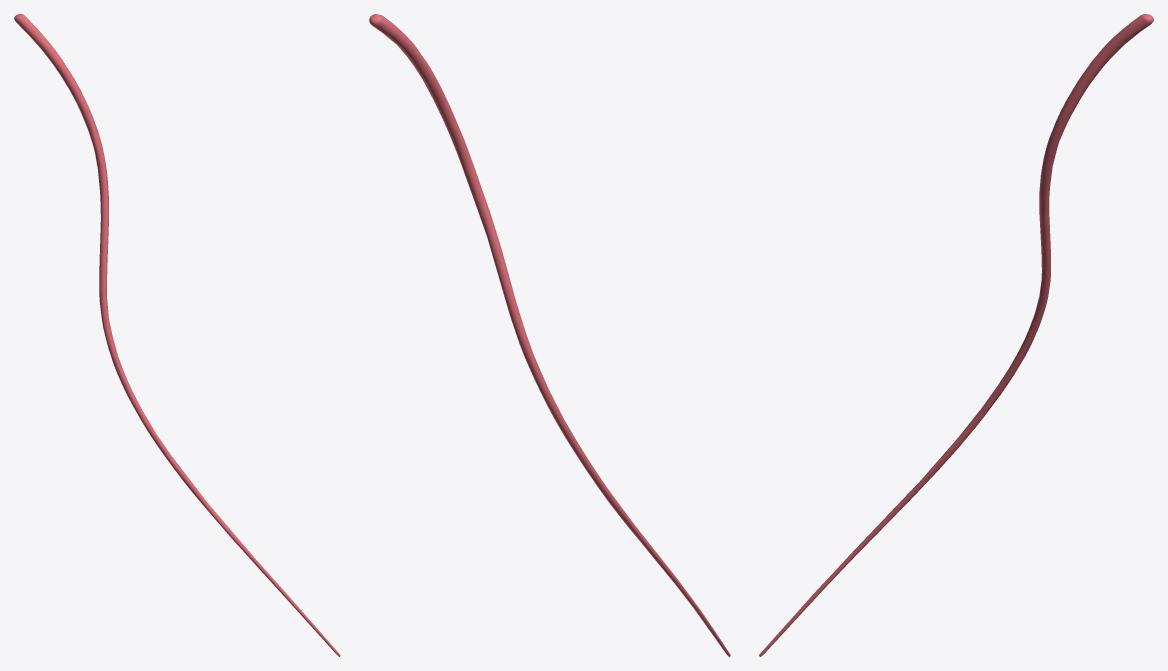
File: fma85124_fj2337.glb
The picture shows the model from 3 angles, left to right: view 1: azimuth 90°, elevation 25°; view 2: azimuth 150°, elevation 25°; view 3: azimuth 270°, elevation 25°; orthographic projection. The views are drawn at different scales.
Parts seen in each view (by area): view 1: FMA85124_FJ2337; view 2: FMA85124_FJ2337; view 3: FMA85124_FJ2337.
Part boxes in pixels (x1,y1,x2,y2): FMA85124_FJ2337: [14, 14, 340, 656]; FMA85124_FJ2337: [369, 14, 730, 656]; FMA85124_FJ2337: [759, 14, 1153, 656].
Size of the model in its own units: 0.019 by 0.089 by 0.0449.
